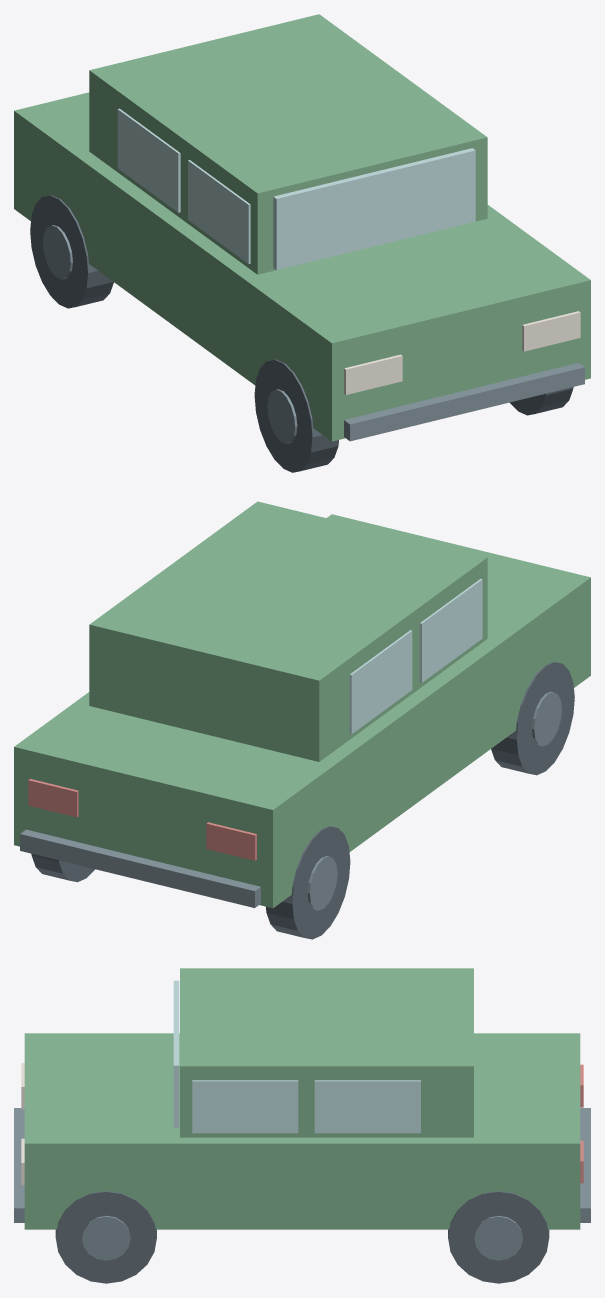
The model's file is hatchback.glb.
The picture shows the model from 3 angles, top to bottom: view 1: azimuth 30°, elevation 25°; view 2: azimuth 150°, elevation 25°; view 3: azimuth 270°, elevation 25°; orthographic projection. The views are drawn at different scales.
Parts seen in each view (by area): view 1: hatchback_000, hatchback_009, hatchback_010, hatchback_021, hatchback_001, hatchback_003, hatchback_012, hatchback_011, hatchback_017, hatchback_019, hatchback_002, hatchback_004 (+1 smaller); view 2: hatchback_000, hatchback_009, hatchback_022, hatchback_003, hatchback_001, hatchback_011, hatchback_012, hatchback_018, hatchback_020, hatchback_004, hatchback_002, hatchback_007; view 3: hatchback_000, hatchback_009, hatchback_014, hatchback_015, hatchback_005, hatchback_007, hatchback_006, hatchback_008, hatchback_022, hatchback_021, hatchback_010.
Boxes of the visible parts, x1,y1,x2,y2 form: hatchback_000: (14, 92, 590, 441); hatchback_009: (89, 14, 487, 274); hatchback_010: (273, 148, 475, 269); hatchback_021: (344, 363, 584, 441); hatchback_001: (254, 359, 338, 472); hatchback_003: (30, 195, 113, 308); hatchback_012: (117, 108, 180, 212); hatchback_011: (188, 160, 250, 263); hatchback_017: (344, 354, 402, 394); hatchback_019: (522, 311, 580, 351); hatchback_002: (267, 389, 297, 443); hatchback_004: (43, 225, 72, 279); hatchback_000: (14, 514, 590, 908); hatchback_009: (89, 501, 487, 761); hatchback_022: (20, 829, 260, 907); hatchback_003: (266, 826, 350, 939); hatchback_001: (491, 662, 574, 775); hatchback_011: (419, 578, 482, 682); hatchback_012: (349, 630, 412, 734); hatchback_018: (206, 822, 256, 860); hatchback_020: (28, 779, 78, 817); hatchback_004: (307, 856, 337, 910); hatchback_002: (532, 691, 561, 746); hatchback_007: (31, 853, 94, 882); hatchback_000: (24, 1033, 580, 1229); hatchback_009: (180, 968, 473, 1137); hatchback_014: (192, 1080, 298, 1133); hatchback_015: (314, 1080, 420, 1133); hatchback_005: (55, 1191, 156, 1283); hatchback_007: (448, 1191, 549, 1283); hatchback_006: (82, 1215, 130, 1260); hatchback_008: (474, 1215, 522, 1260); hatchback_022: (580, 1108, 590, 1222); hatchback_021: (14, 1108, 24, 1222); hatchback_010: (173, 980, 179, 1127).
Bounding box in the file's own units: 1.65 × 1.42 × 3.53.
